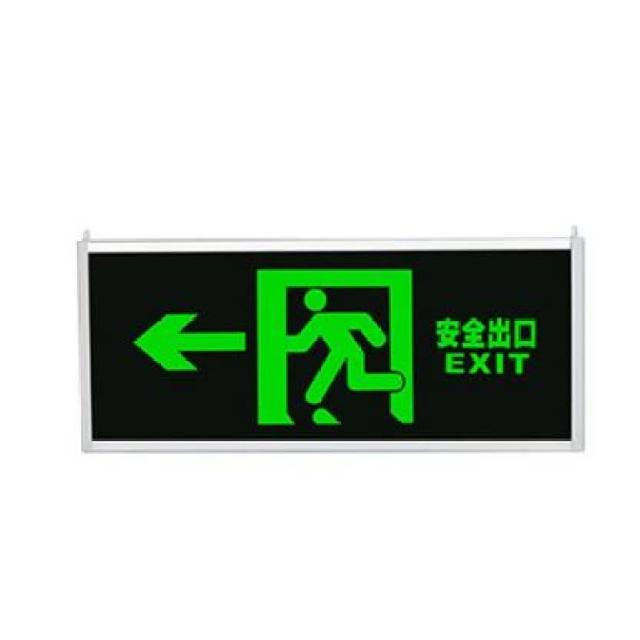exit_sign: (68, 224, 594, 458)
